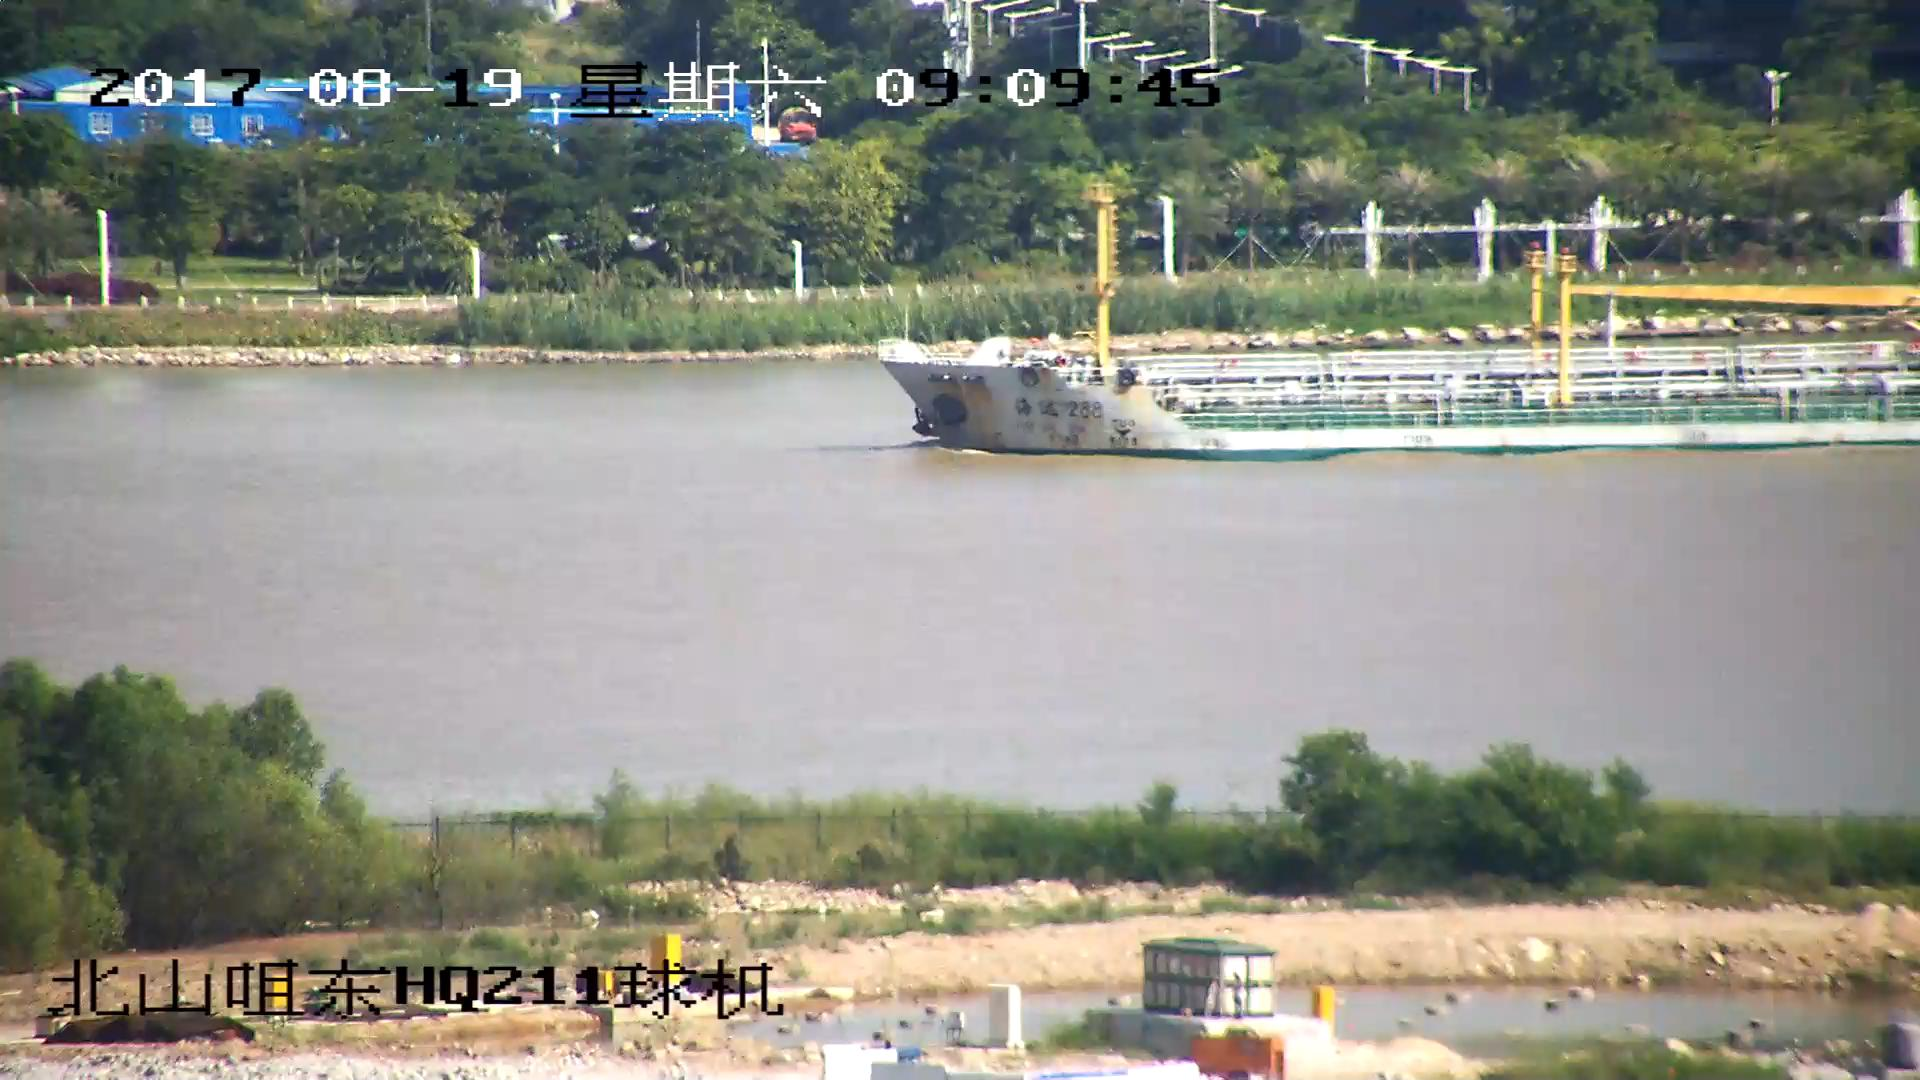general cargo ship: (883, 206, 1920, 457)
